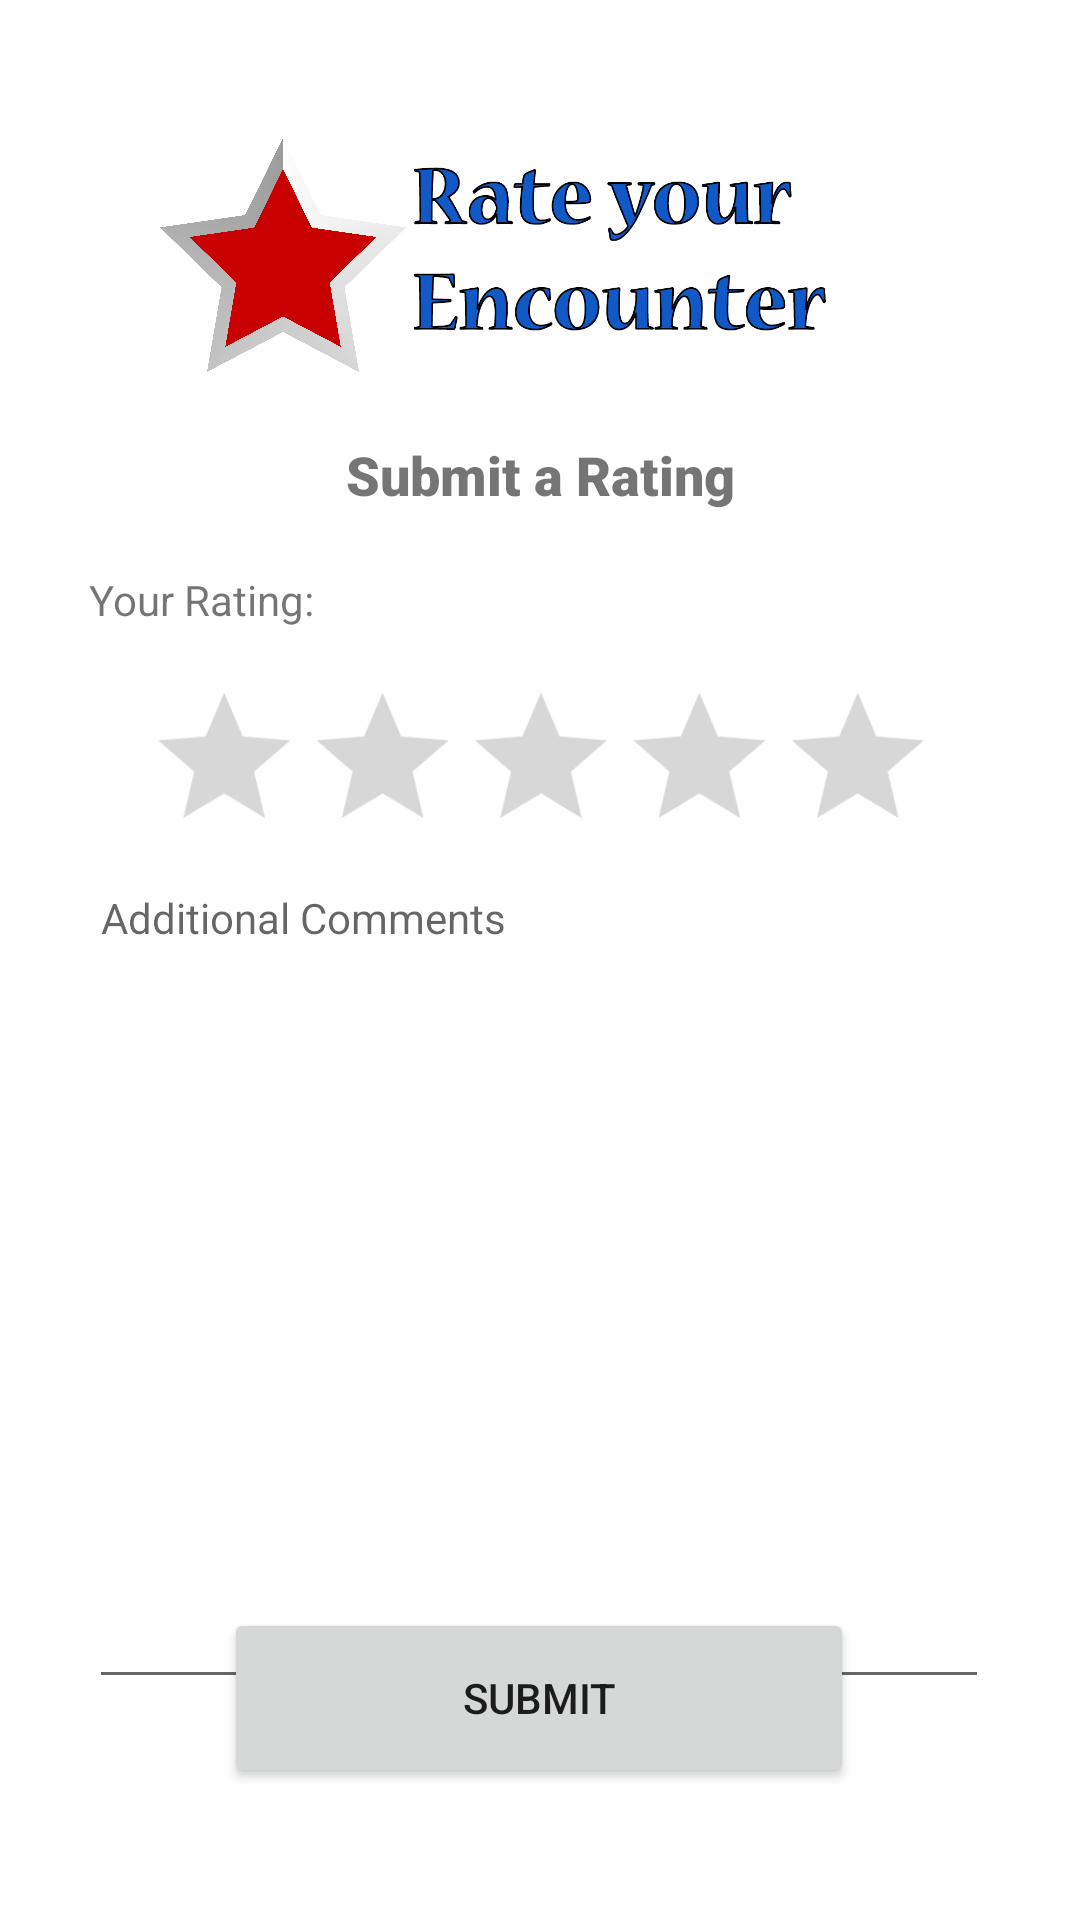

Icon bounding boxes for this 1080 x 1920 phone screenshot, format {"left": x1, "top": y1, "right": x2, "bottom": y2}:
starr: {"left": 160, "top": 139, "right": 381, "bottom": 372}
